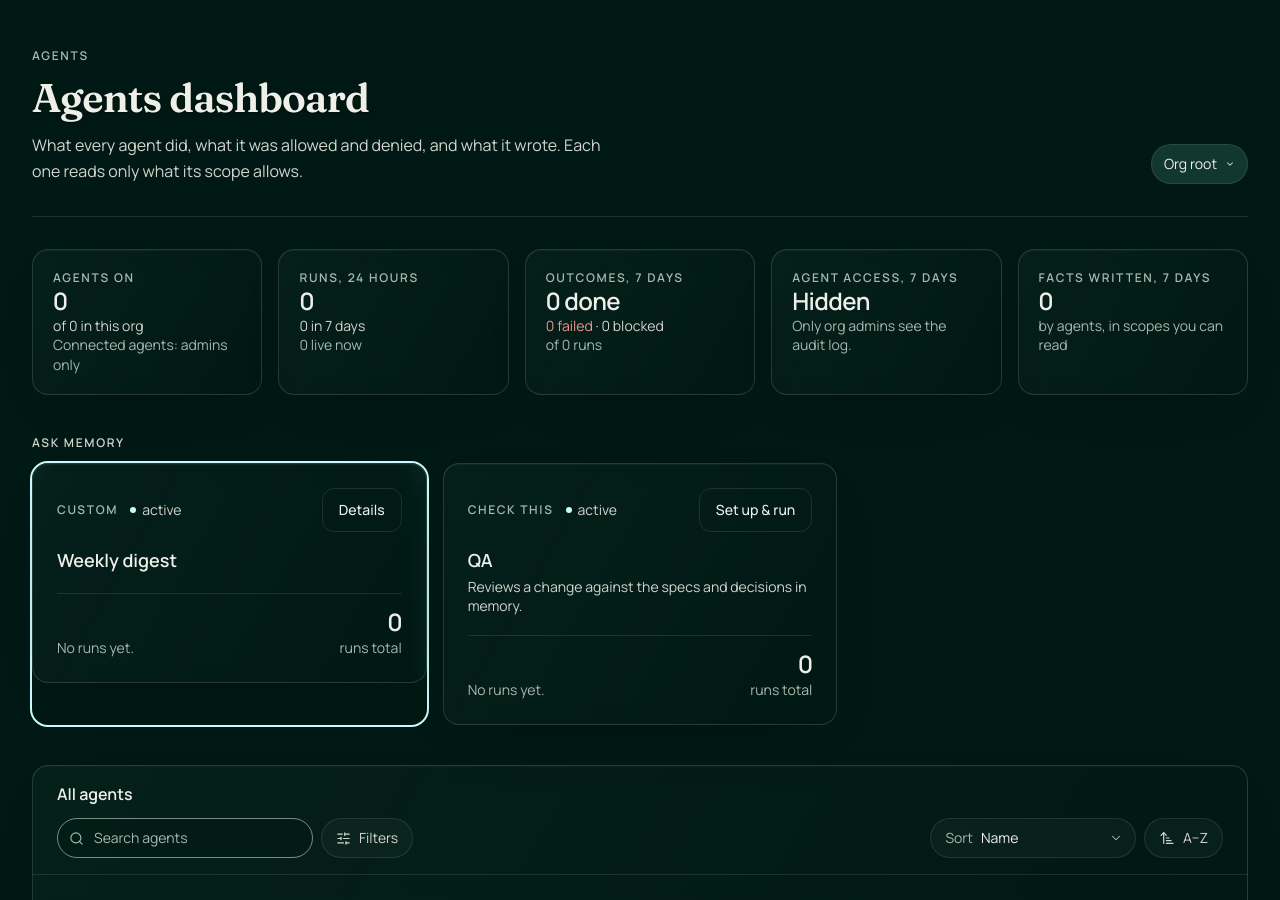
agents page Configuration panel › is absent for a member, whose roster arrives without prompts
The image size is (1280, 900).
Click the button "Details": click(362, 510) [322,488,402,532]
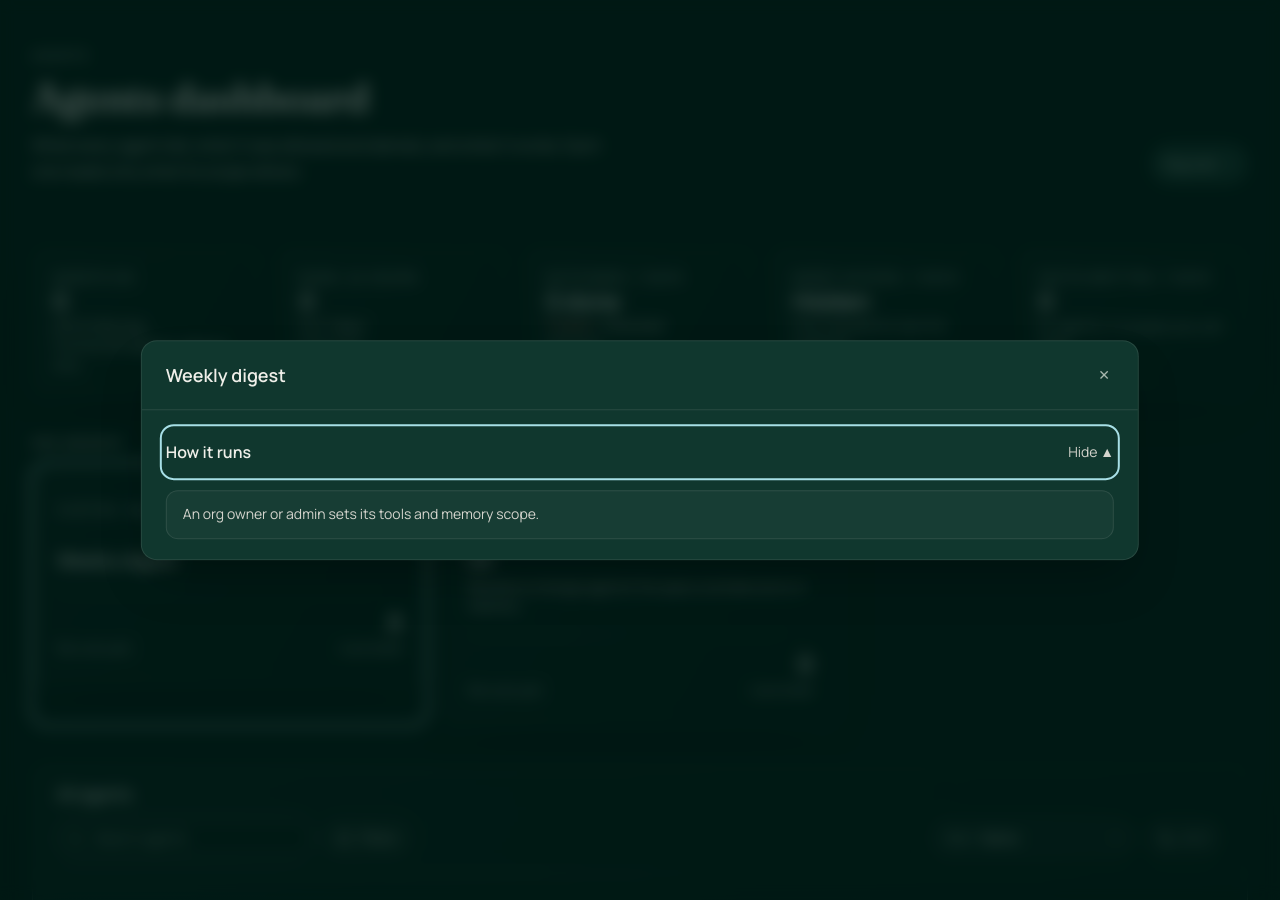
Result: the text "An org owner or admin sets its tools and memory scope." is shown at [183,504,539,523]
